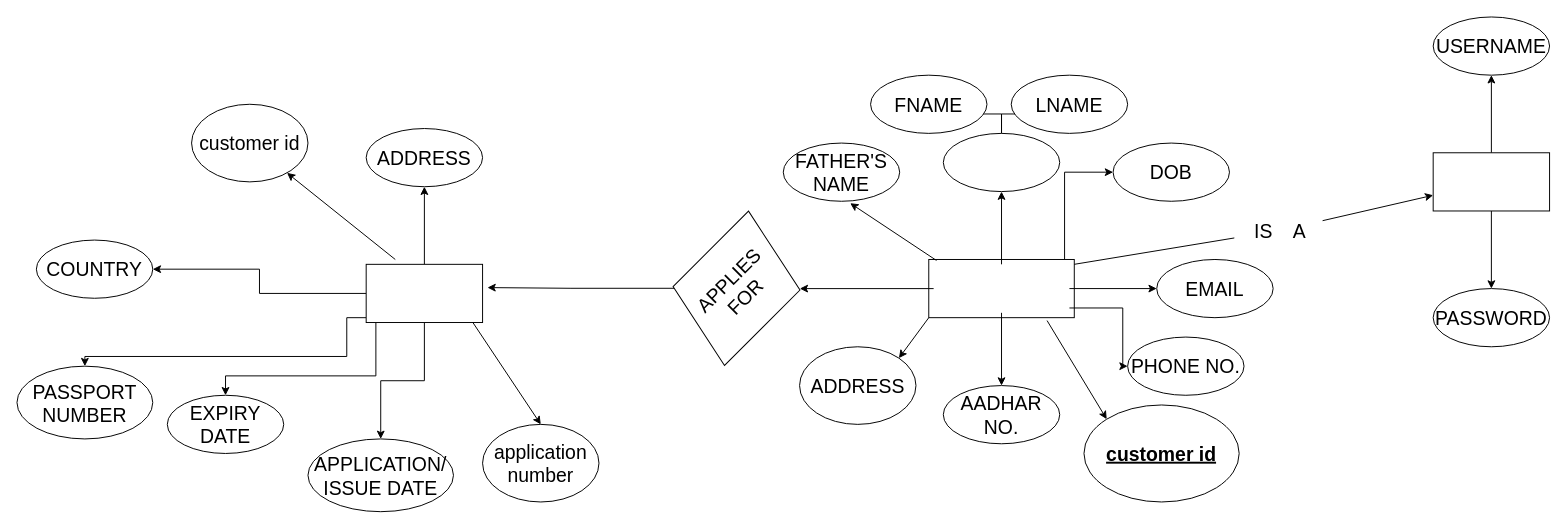
Image size: 1567x529. Some labels were removed from this diagram. Here are the shapes that lost their labels. From the top down, the centre of each, then its label:
point (1001, 162): NAME
point (1491, 181): USER
point (424, 293): PASSPORT
point (1001, 288): CUSTOMER
